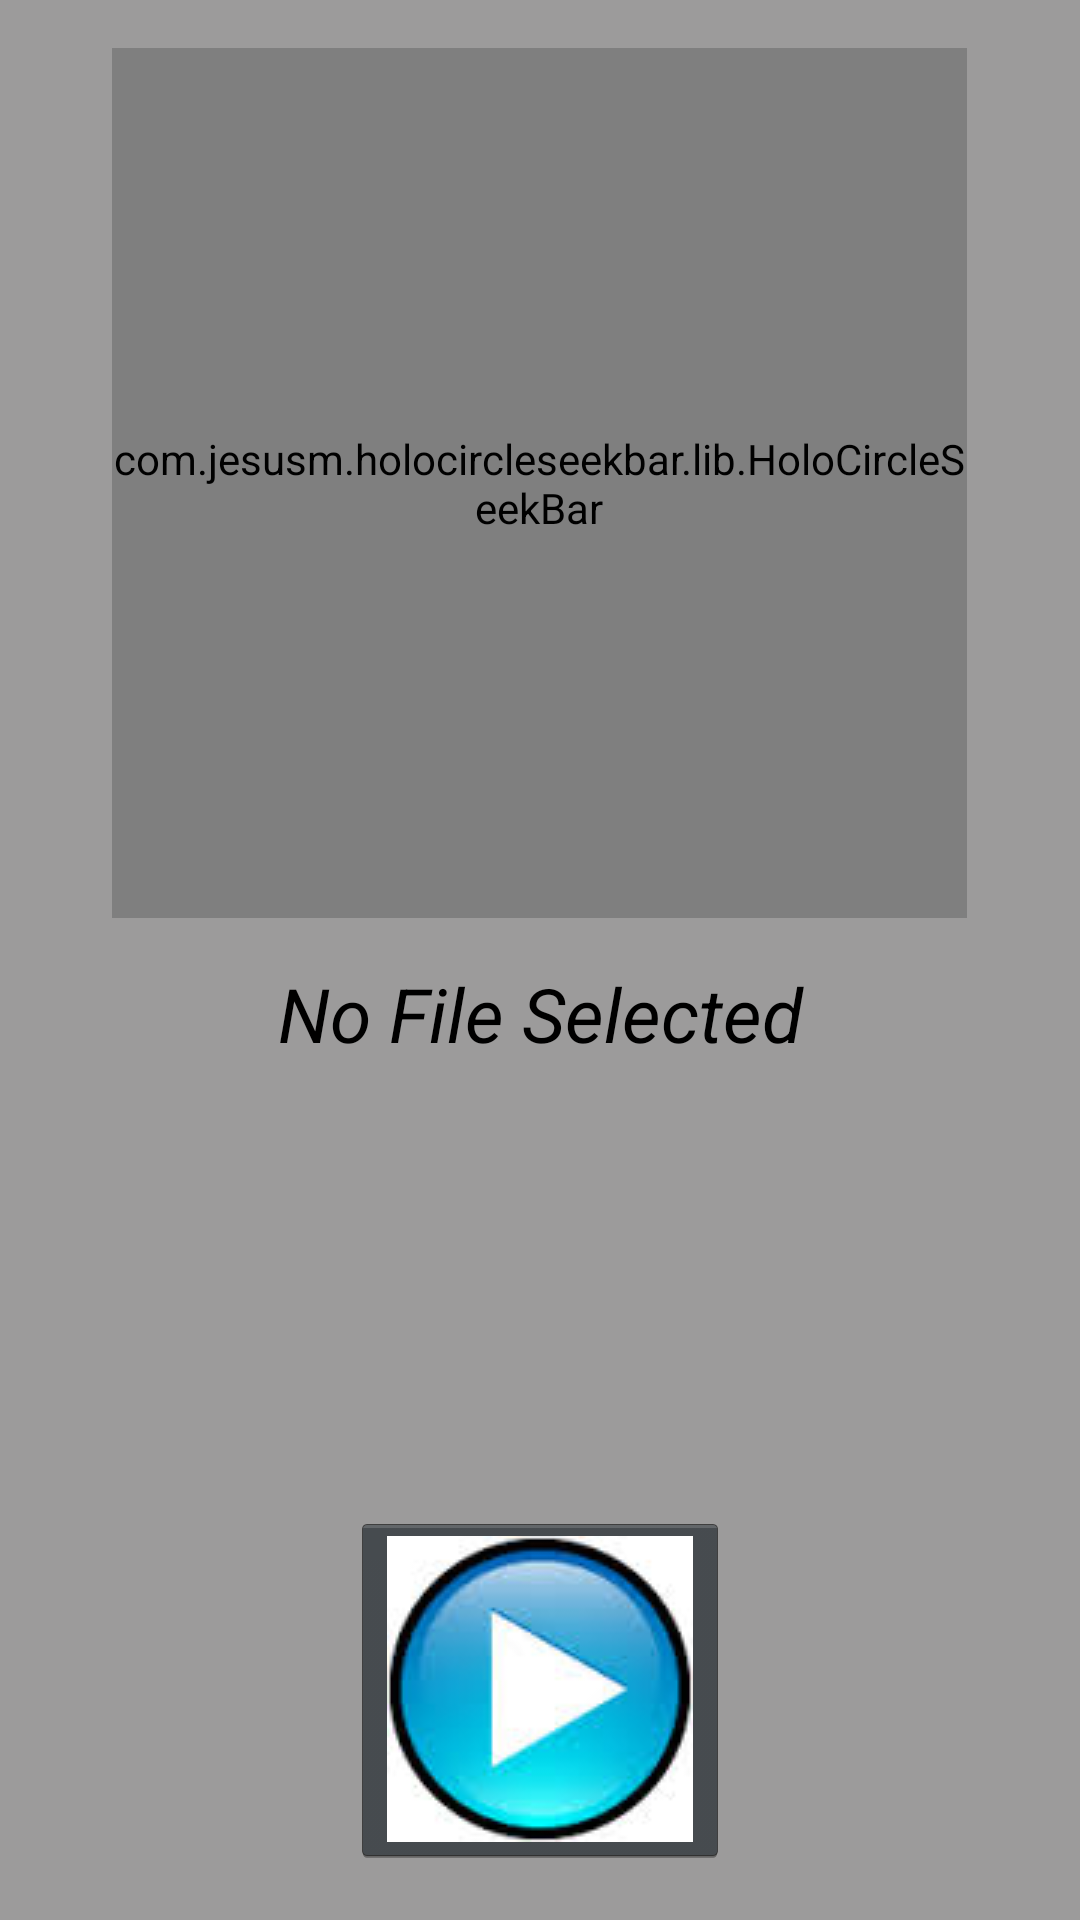

Screen size 1080×1920. Icon name, then its center in pixels as [x,y]:
play: [540,1691]
